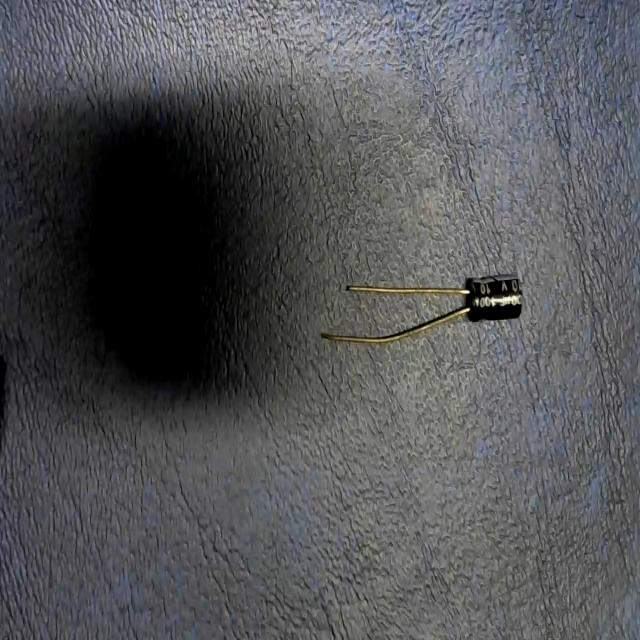capacitor: (324, 274, 524, 346)
